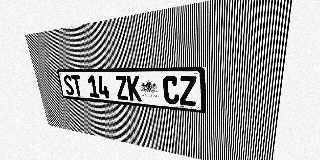1: (86, 75, 100, 98)
4: (96, 75, 110, 99)
C: (162, 76, 179, 105)
K: (127, 76, 142, 101)
S: (63, 75, 75, 96)
T: (71, 75, 83, 96)
Z: (179, 76, 197, 106), (114, 76, 129, 100)
